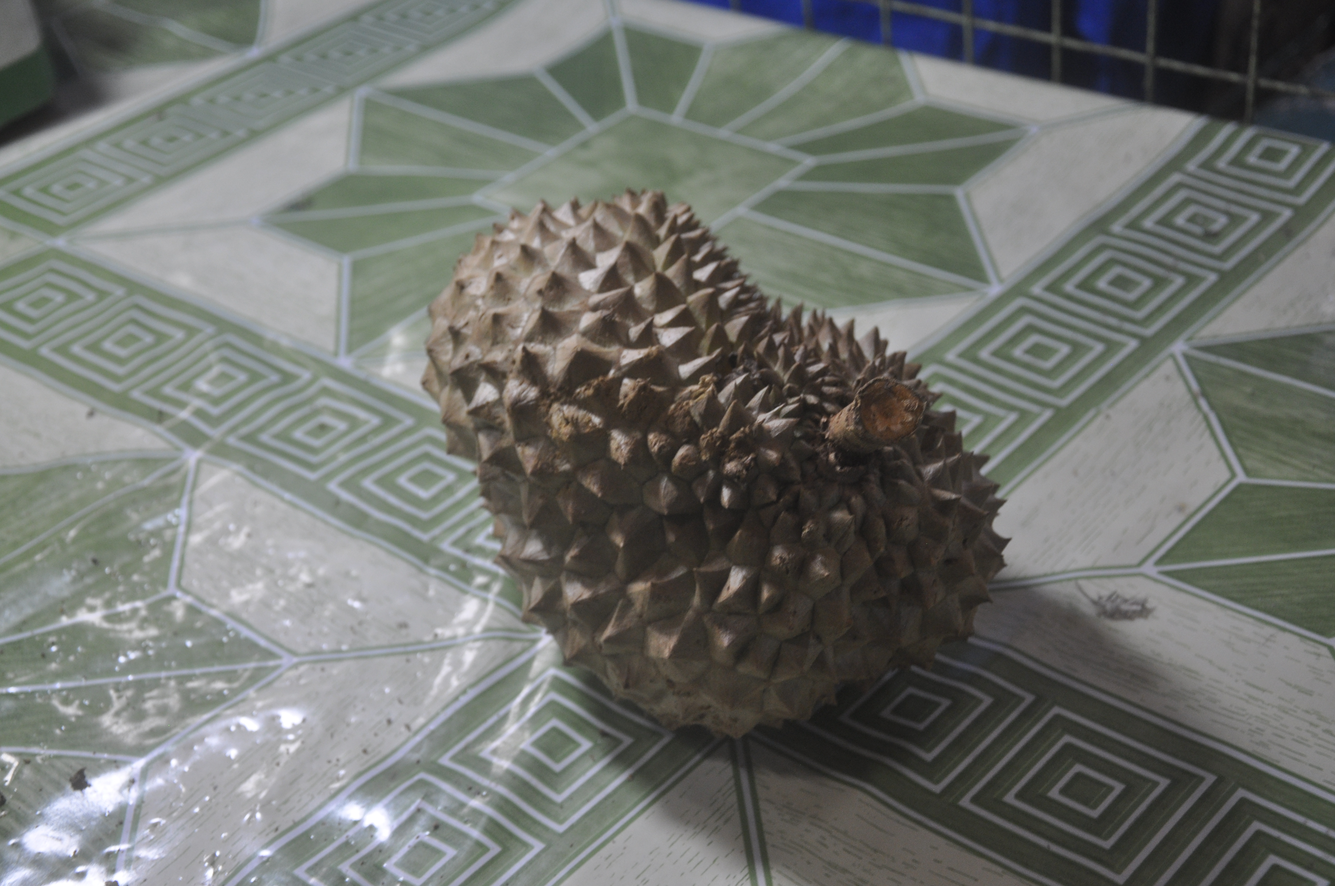mature: (424, 192, 1005, 736)
